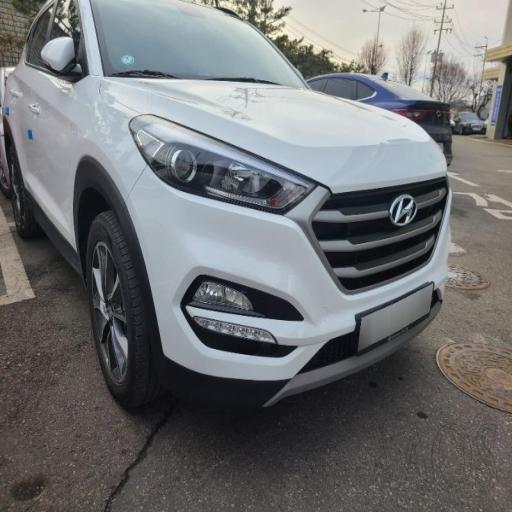scratch: (200, 45, 294, 156)
